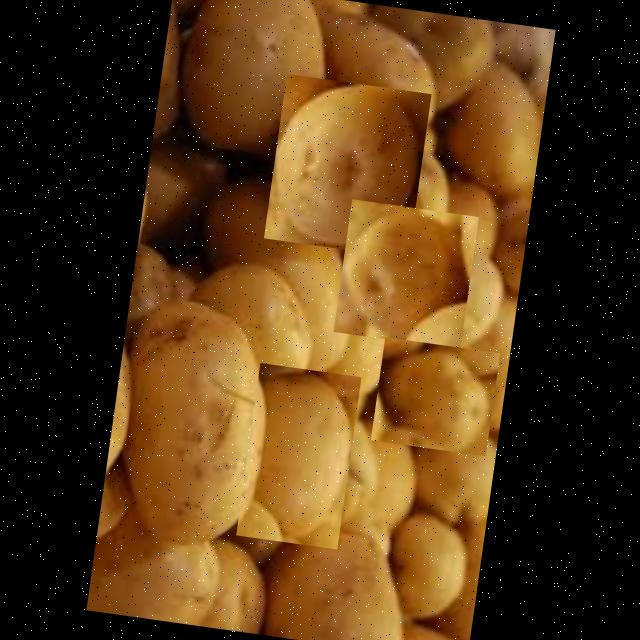Potato: (101, 291, 286, 556), (262, 74, 430, 258), (236, 362, 360, 550), (332, 199, 478, 350), (370, 337, 499, 456)
